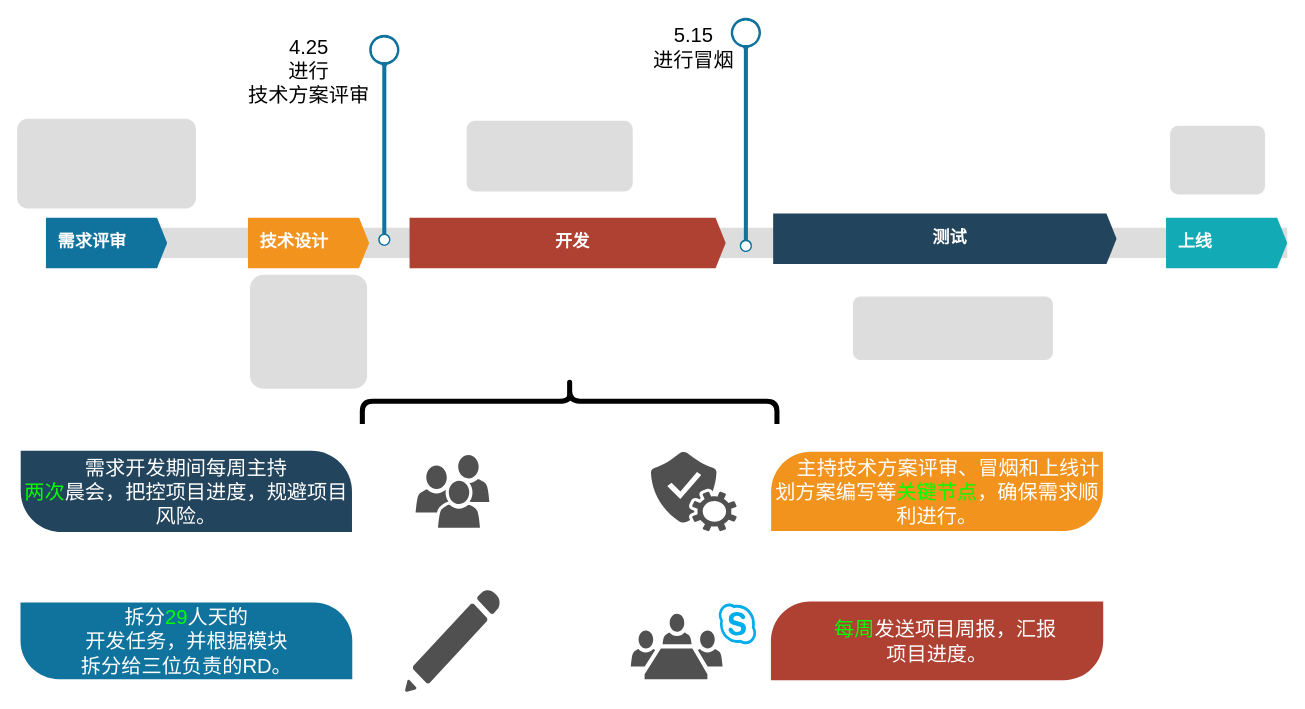
Image size: 1305x709. Some labels were removed from this diagram. Here are the shapes that lost their labels. From the top down, the centre of each, then its label:
At (x=106, y=163): "4.20 产品主持会议进行 需求评审".
At (x=549, y=155): "4.27-5.15 正式开发".
At (x=1217, y=159): "5.25 上线成功".
At (x=308, y=331): "4.20 进行 技术方案设计".
At (x=952, y=328): "5.15-5-25 进入测试".
